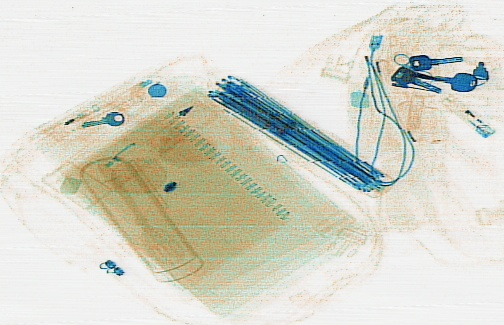lighter: (439, 93, 495, 137)
